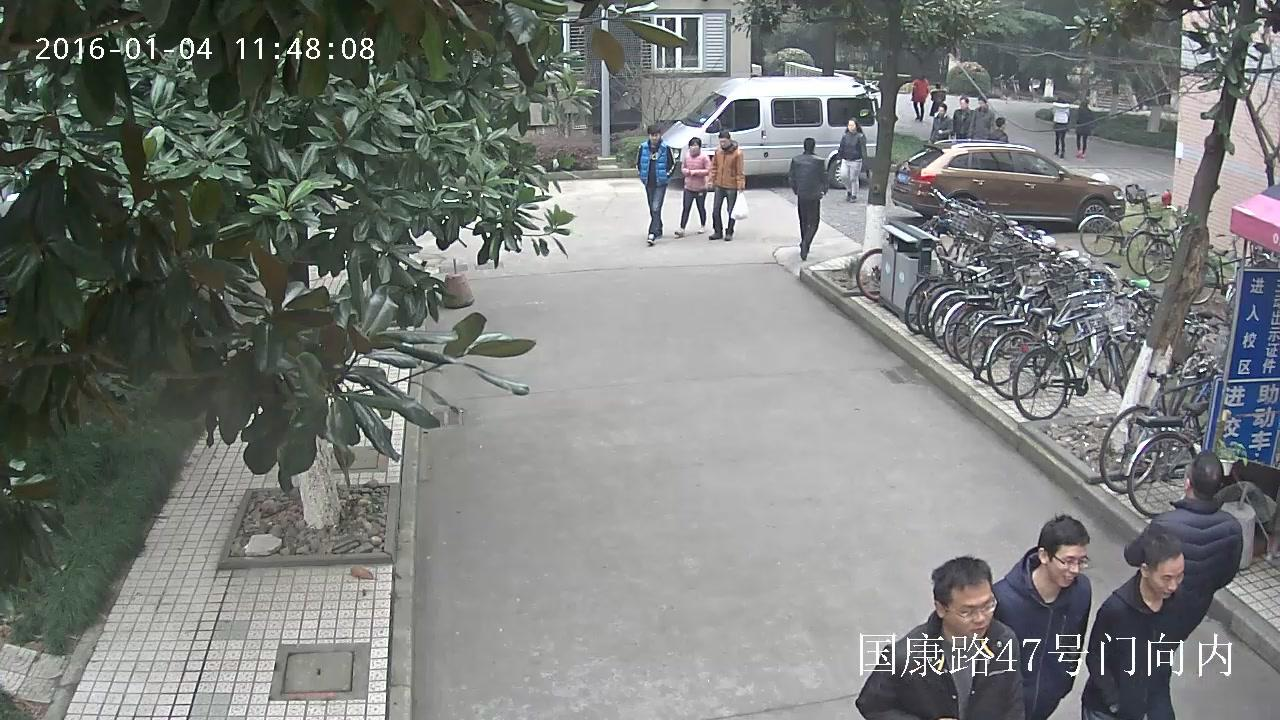person: (856, 557, 1026, 720), (1124, 452, 1243, 677), (989, 516, 1091, 720), (1080, 533, 1185, 720), (633, 124, 673, 244), (790, 138, 826, 259), (708, 132, 744, 241), (673, 137, 709, 236), (836, 116, 869, 202), (968, 96, 994, 141), (950, 96, 974, 143), (1052, 99, 1070, 158), (1075, 100, 1091, 158), (929, 105, 950, 143), (912, 75, 928, 121), (928, 83, 947, 115), (989, 116, 1008, 143)
